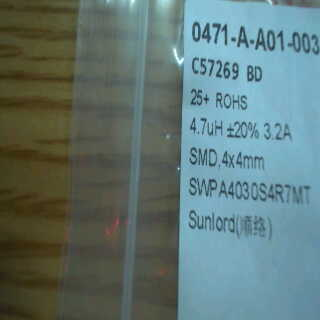4.7uH: (183, 115, 228, 139)
